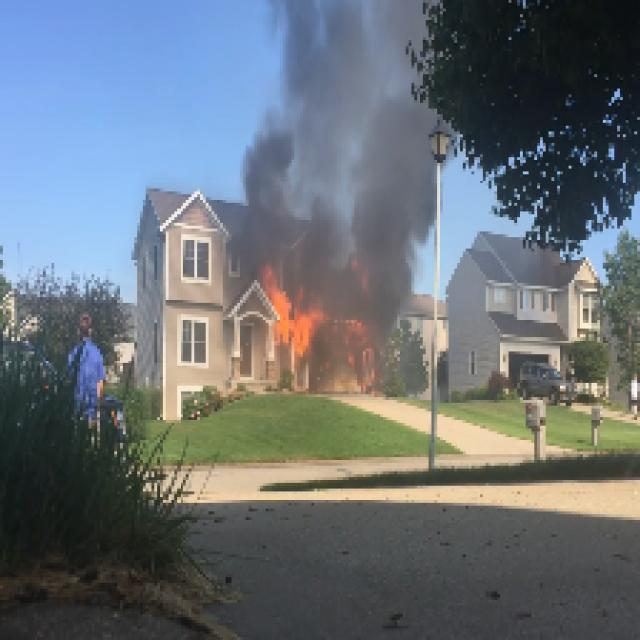Fire: (268, 289, 326, 352)
Smoke: (276, 2, 434, 288)
